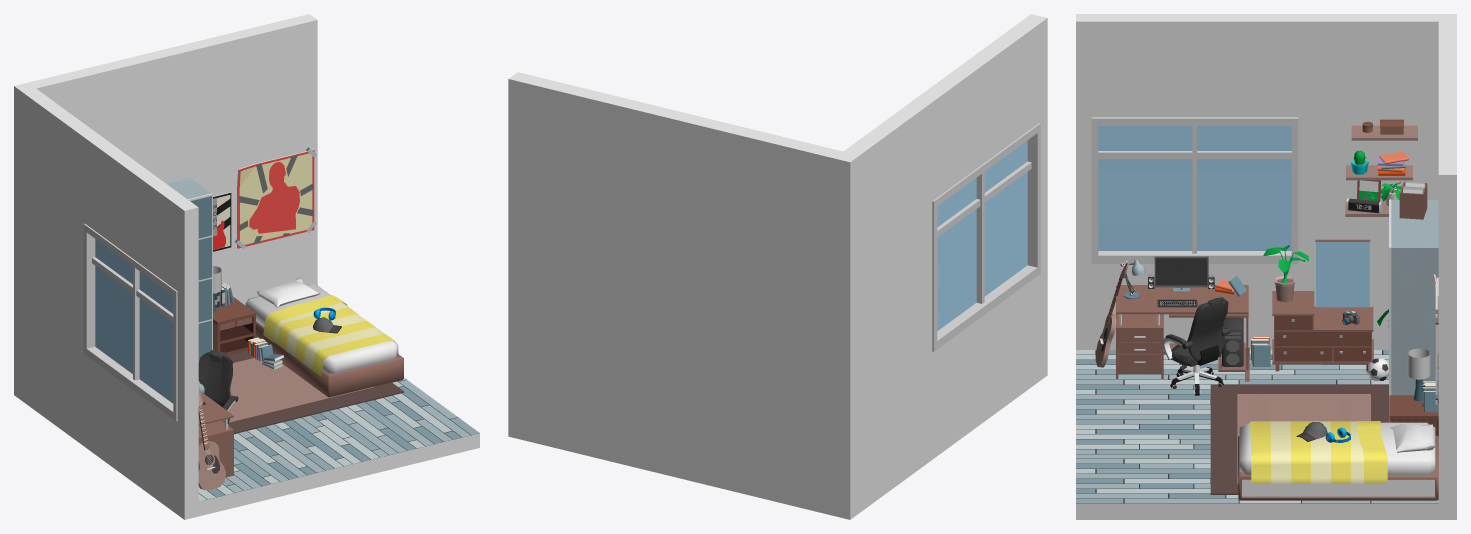
The model's file is room_10.glb.
3 views of the same model, side by side, from view 1: azimuth 30°, elevation 25°; view 2: azimuth 150°, elevation 25°; view 3: azimuth 270°, elevation 25° (orthographic). The views are drawn at different scales.
Visible parts, largest first — view 1: Walls_006.013, Walls_006.015, floor_002.001, window_019.002, bed_011.001, Walls_006.018, Walls_006.017, Walls_006.016, Walls_011.017, picture_039.001, carpet_001.004, closet_011.001 (+5 smaller); view 2: Walls_006.013, Walls_006.015, window_019.002, Walls_006.018, Walls_006.017, Walls_006.016; view 3: window_019.002, Walls_006.015, floor_002.001, Walls_006.018, bed_011.001, Walls_011.017, shelf_038.001, Walls_006.013, office_table_011.001, carpet_001.004, closet_011.001, Walls_006.016 (+16 smaller).
Part boxes in pixels (bbox=[...]): Walls_006.013: bbox=[28, 14, 317, 305]; Walls_006.015: bbox=[14, 82, 100, 448]; floor_002.001: bbox=[198, 378, 479, 501]; window_019.002: bbox=[83, 223, 177, 421]; bed_011.001: bbox=[245, 277, 403, 397]; Walls_006.018: bbox=[87, 136, 190, 289]; Walls_006.017: bbox=[87, 356, 176, 513]; Walls_006.016: bbox=[176, 201, 198, 519]; Walls_011.017: bbox=[198, 379, 479, 516]; picture_039.001: bbox=[235, 147, 316, 249]; carpet_001.004: bbox=[227, 350, 404, 433]; closet_011.001: bbox=[167, 178, 212, 362]; Walls_006.013: bbox=[508, 72, 842, 515]; Walls_006.015: bbox=[834, 96, 934, 519]; window_019.002: bbox=[932, 123, 1040, 351]; Walls_006.018: bbox=[919, 21, 1037, 198]; Walls_006.017: bbox=[934, 276, 1037, 457]; Walls_006.016: bbox=[1022, 14, 1047, 382]; window_019.002: bbox=[1091, 117, 1298, 263]; Walls_006.015: bbox=[1293, 14, 1456, 350]; floor_002.001: bbox=[1076, 350, 1438, 503]; Walls_006.018: bbox=[1094, 14, 1293, 117]; bed_011.001: bbox=[1238, 421, 1438, 500]; Walls_011.017: bbox=[1076, 350, 1438, 519]; shelf_038.001: bbox=[1272, 239, 1373, 371]; Walls_006.013: bbox=[1438, 21, 1456, 519]; office_table_011.001: bbox=[1116, 256, 1249, 381]; carpet_001.004: bbox=[1210, 384, 1388, 494]; closet_011.001: bbox=[1388, 199, 1438, 422]; Walls_006.016: bbox=[1076, 14, 1094, 349].
Bounding box in the file's own units: 4.22 × 4.2 × 4.2.
Materials: 1 (1 with a texture image).
